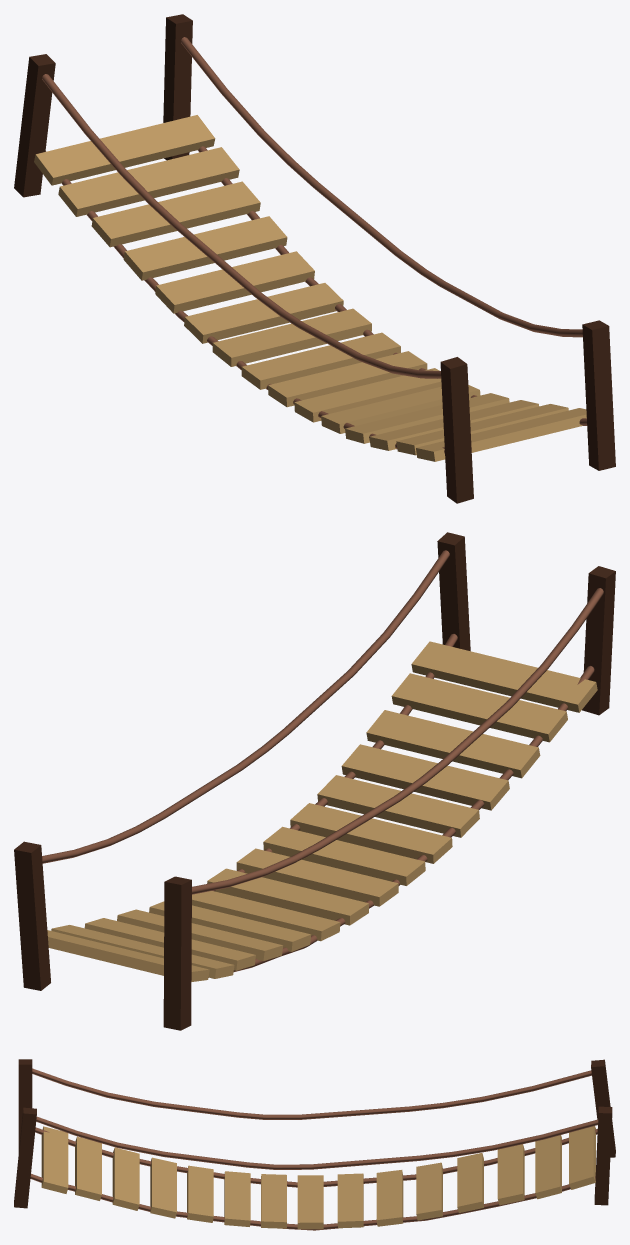
Rendered from SM_Bridge.fbx.
3 views of the same model, one above another, from view 1: azimuth 30°, elevation 25°; view 2: azimuth 150°, elevation 25°; view 3: azimuth 270°, elevation 25° (orthographic). The views are drawn at different scales.
Visible parts, largest first — view 1: pCube32; view 2: pCube32; view 3: pCube32.
Part boxes in pixels (<box>): pCube32: <box>14,14,615,503</box>; pCube32: <box>14,532,615,1030</box>; pCube32: <box>14,1059,615,1230</box>.
Size of the model in its own units: 8.98 by 9.03 by 39.85.
